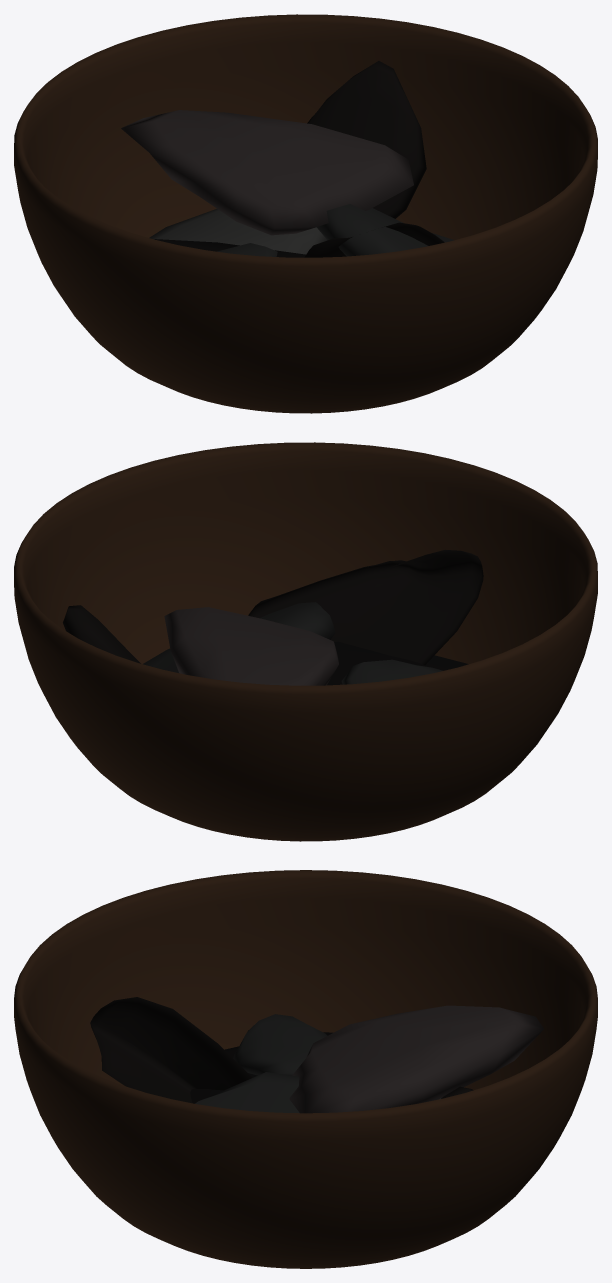
The model's file is BlackRocks.fbx.
3 views of the same model, one above another, from view 1: azimuth 30°, elevation 25°; view 2: azimuth 150°, elevation 25°; view 3: azimuth 270°, elevation 25° (orthographic).
Visible parts, largest first — view 1: Bowl, Variant1, Variant2.001, Variant2.003, Variant2.002, Cube, Variant1.001; view 2: Bowl, Cube, Variant1, Variant2.002, Variant2.001, Variant1.001, Variant2; view 3: Bowl, Variant1, Cube, Variant2, Variant2.002.
Boxes of the visible parts, x1,y1,x2,y2 form: Bowl: [14, 14, 597, 413]; Variant1: [121, 110, 413, 235]; Variant2.001: [307, 61, 426, 218]; Variant2.003: [149, 209, 327, 254]; Variant2.002: [316, 204, 454, 256]; Cube: [304, 222, 444, 257]; Variant1.001: [154, 239, 305, 257]; Bowl: [14, 442, 597, 841]; Cube: [248, 549, 483, 664]; Variant1: [164, 607, 338, 685]; Variant2.002: [143, 602, 335, 672]; Variant2.001: [63, 605, 140, 663]; Variant1.001: [327, 641, 468, 685]; Variant2: [341, 659, 442, 684]; Bowl: [14, 870, 597, 1268]; Variant1: [289, 1005, 543, 1113]; Cube: [90, 997, 252, 1103]; Variant2: [233, 1014, 327, 1075]; Variant2.002: [195, 1072, 299, 1113].
Size of the model in its own units: 181 by 71.75 by 181.
